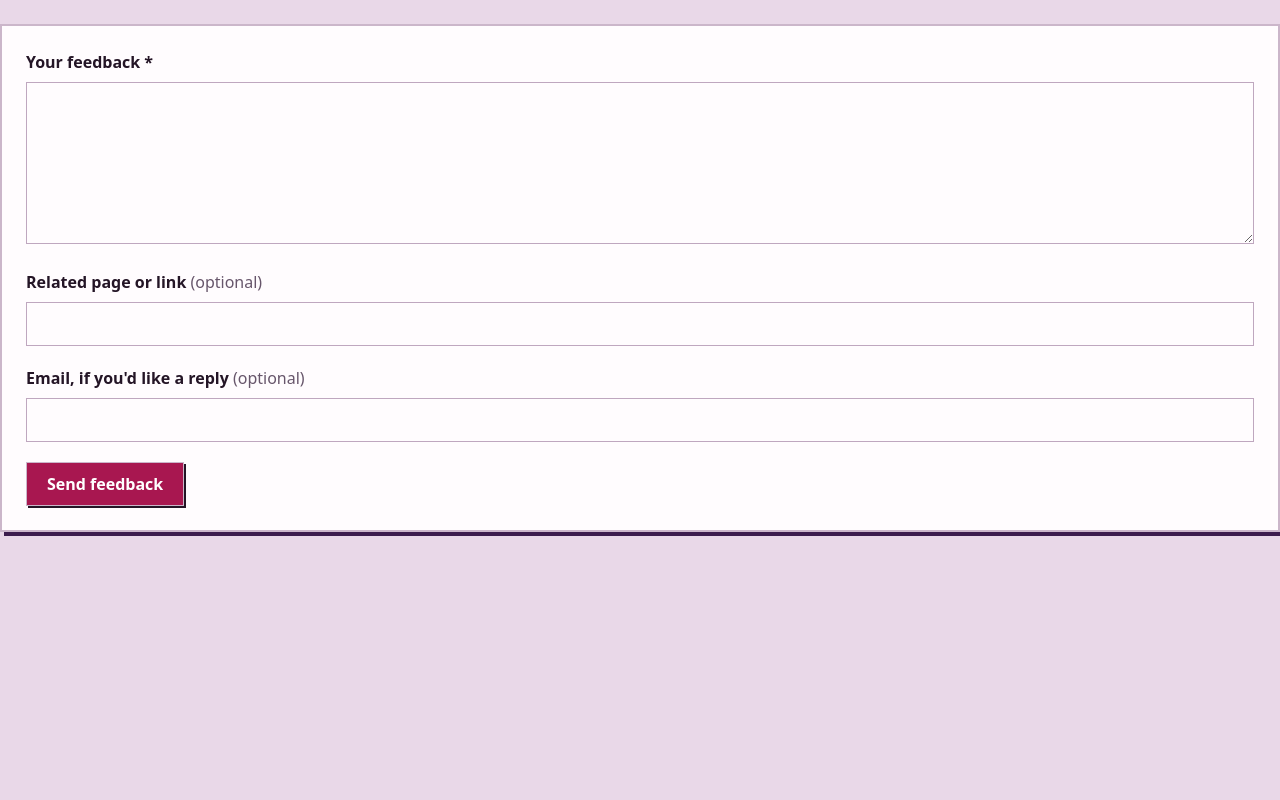
Test: CorrectionForm › preserves text after failure and blocks duplicate submission
The width and height of the screenshot is (1280, 800).
Type "Please make searching by song easier." into the text box labelled "Your feedback *" at coordinates (640, 163), box [26,82,1254,244]
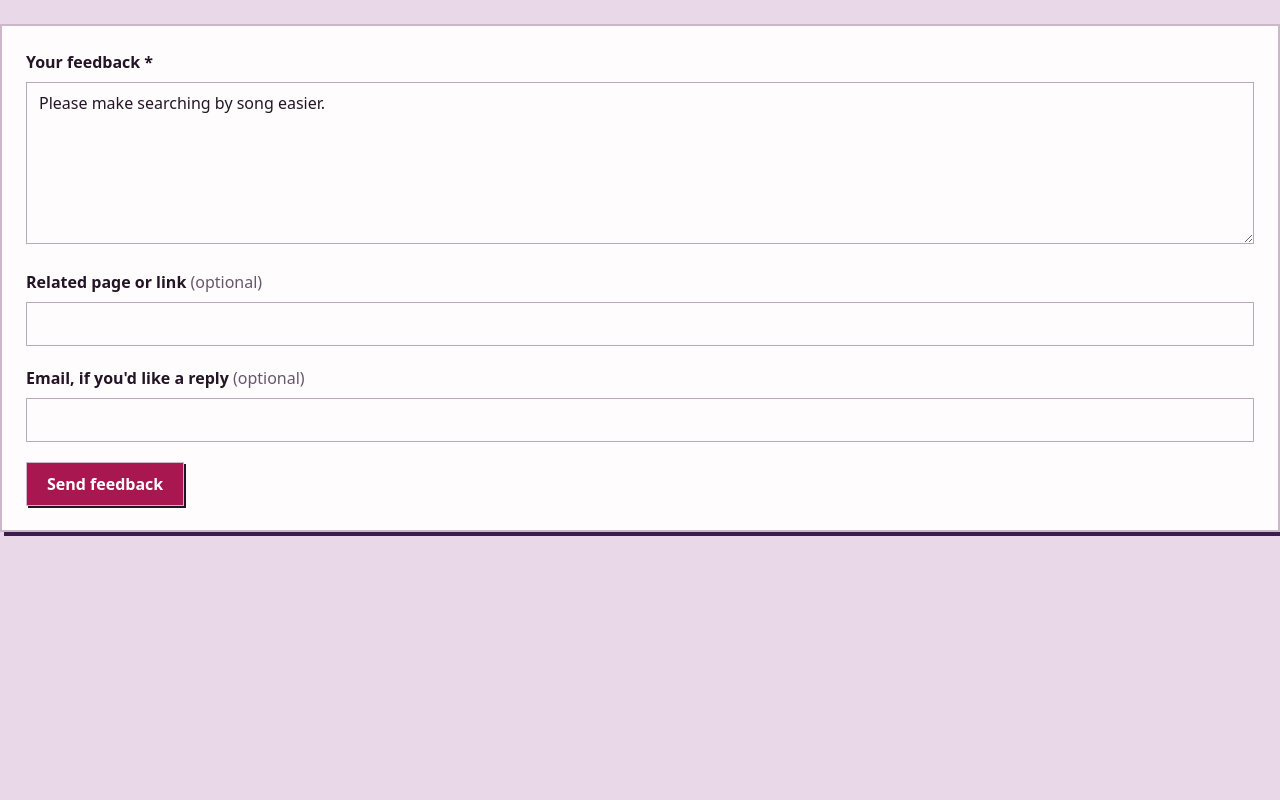
Click the button "Send feedback" at coordinates (105, 484), box [26,462,184,506]
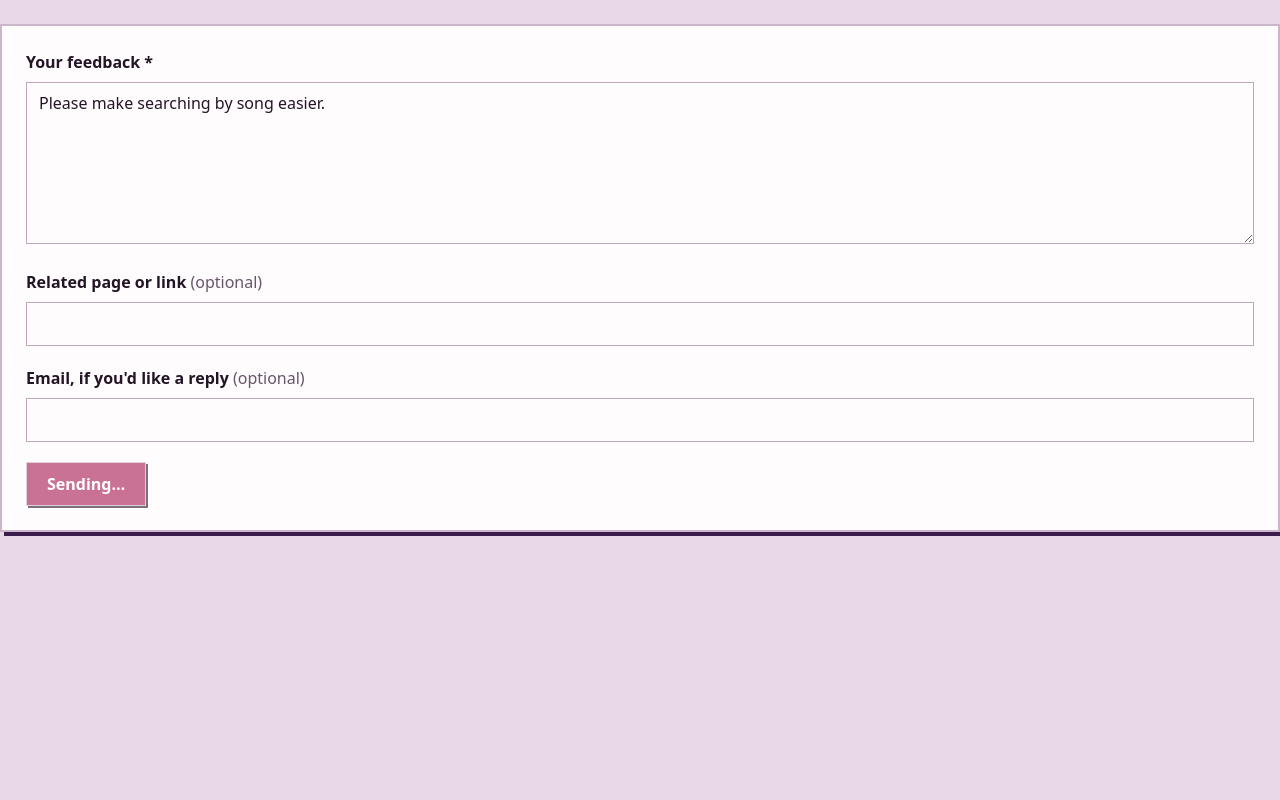
Submit the form named "Send feedback"
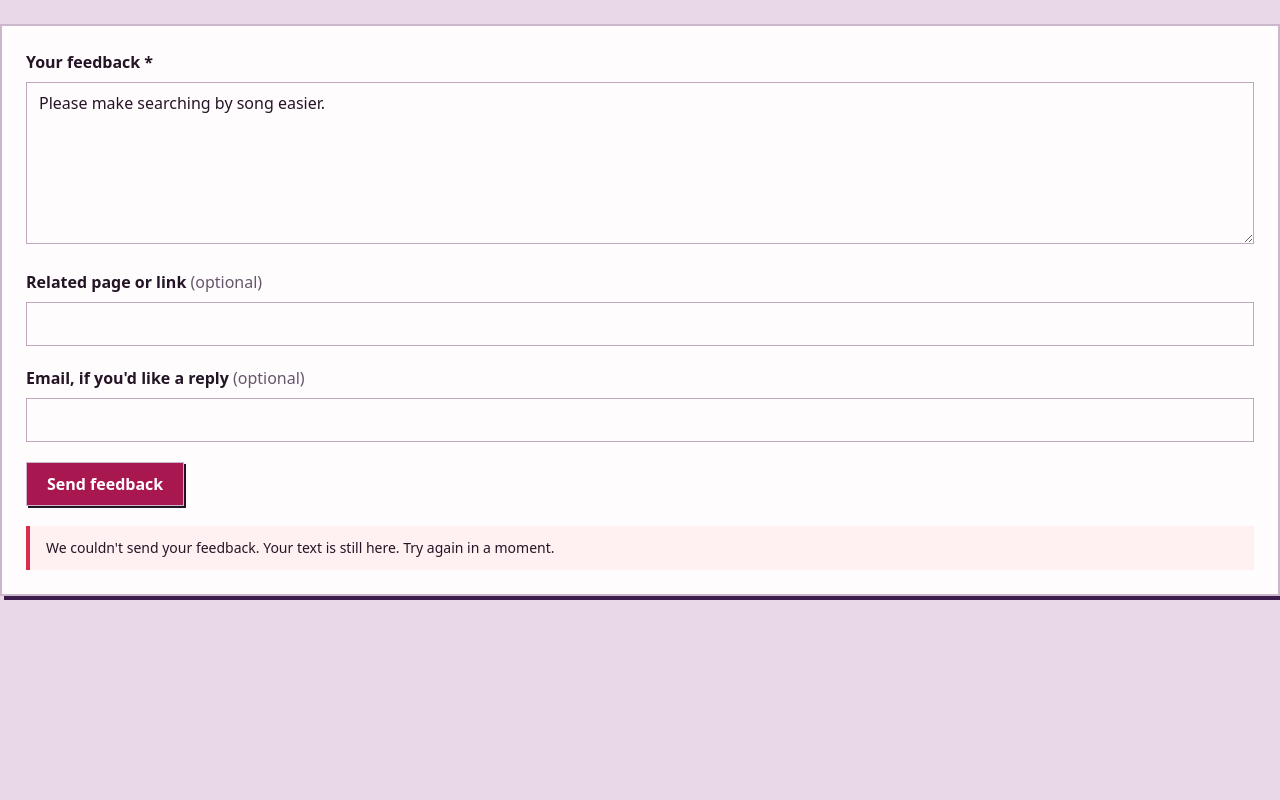
Expected: the field labelled "Related page or link (optional)" is empty, [26,302,1254,346]
Expected: the message is shown, [26,526,1254,570]
